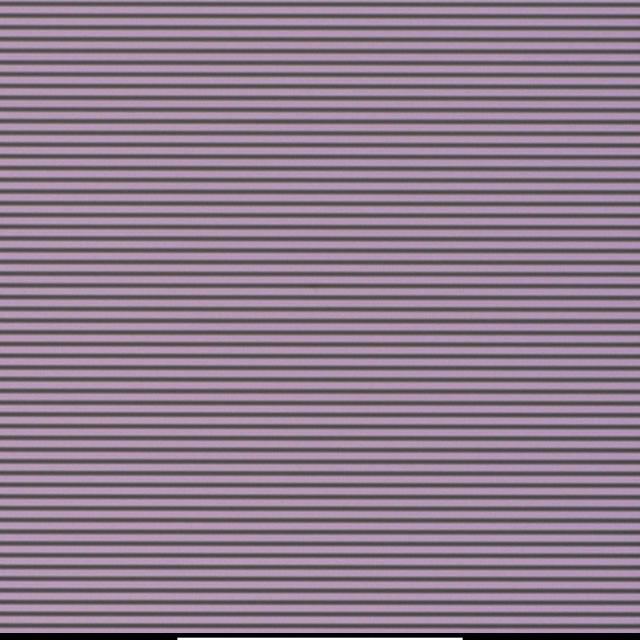nonvisual: (308, 269, 319, 280)
